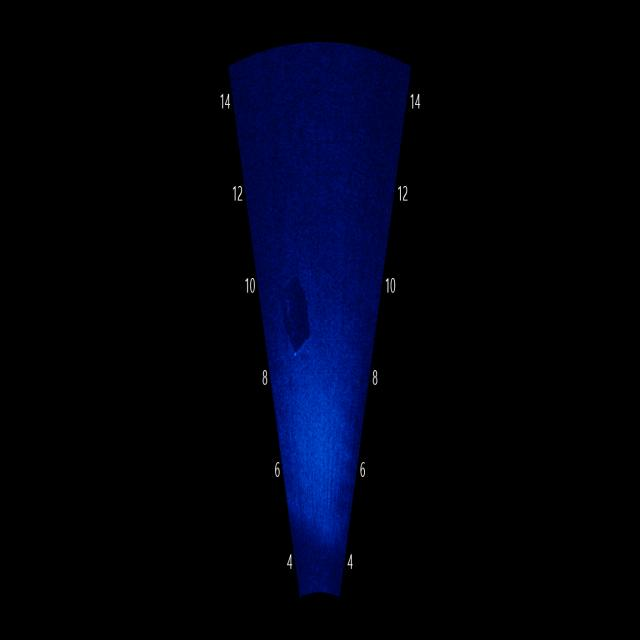square: (274, 276, 326, 375)
